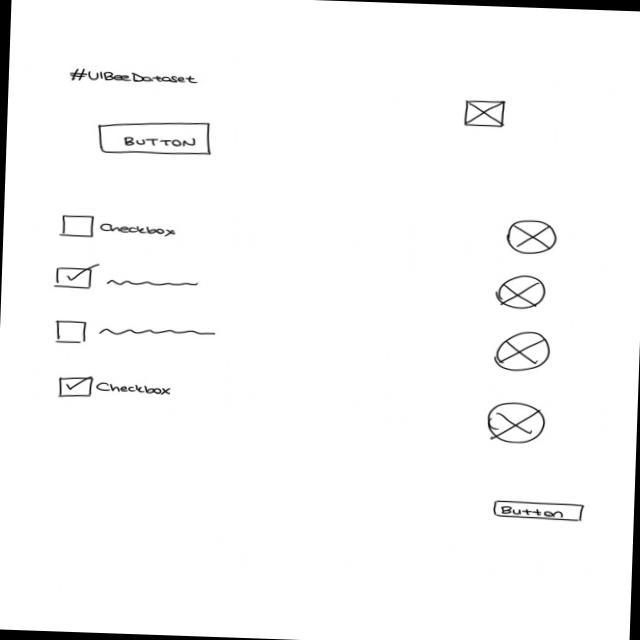button: (95, 118, 213, 158), (491, 498, 586, 522)
checkbox: (53, 318, 217, 350), (52, 261, 199, 294), (59, 212, 180, 242), (55, 373, 174, 402)
image: (485, 400, 547, 446), (492, 329, 552, 374), (503, 218, 558, 256), (494, 273, 546, 310), (463, 98, 506, 129)
label: (64, 64, 200, 88)
